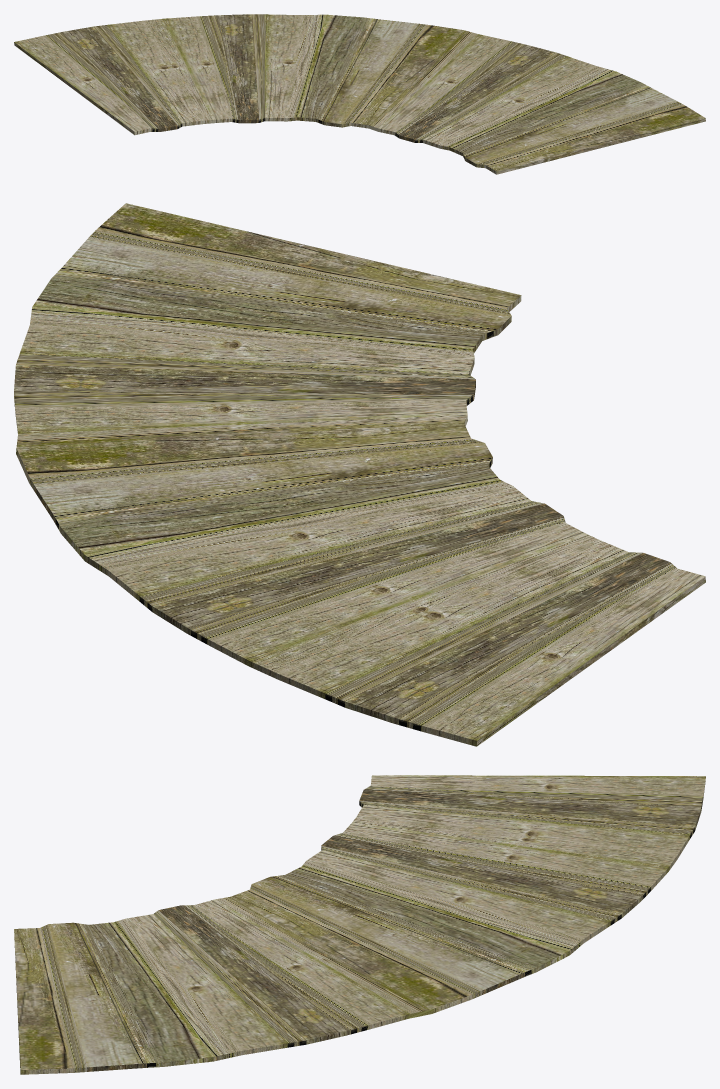
The model's file is Col-R-9.fbx.
The picture shows the model from 3 angles, top to bottom: view 1: azimuth 30°, elevation 25°; view 2: azimuth 150°, elevation 25°; view 3: azimuth 270°, elevation 25°; orthographic projection. The views are drawn at different scales.
Visible parts, largest first — view 1: ramp_009; view 2: ramp_009; view 3: ramp_009.
Boxes of the visible parts, <box> form: ramp_009: <box>14,14,705,174</box>; ramp_009: <box>14,203,705,746</box>; ramp_009: <box>14,775,705,1074</box>.
Bounding box in the file's own units: 417 × 3 × 413.
